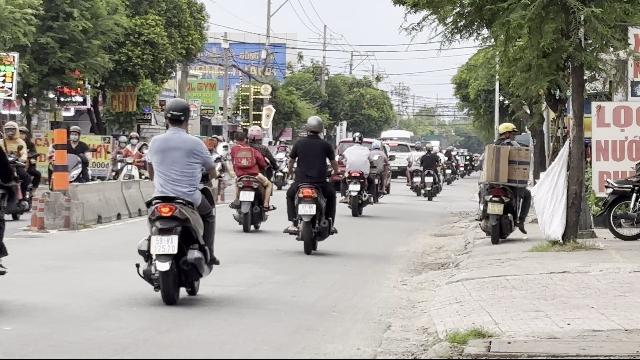helmet: (162, 98, 192, 130), (304, 115, 324, 135), (498, 121, 518, 140), (246, 124, 264, 144)
licenseplate: (150, 234, 178, 254), (487, 203, 503, 215), (298, 204, 316, 214), (238, 191, 254, 201)
motorcyclist: (134, 96, 222, 305), (282, 114, 338, 252), (473, 121, 533, 243), (226, 124, 276, 232)
nohelmet: (234, 132, 246, 146)
